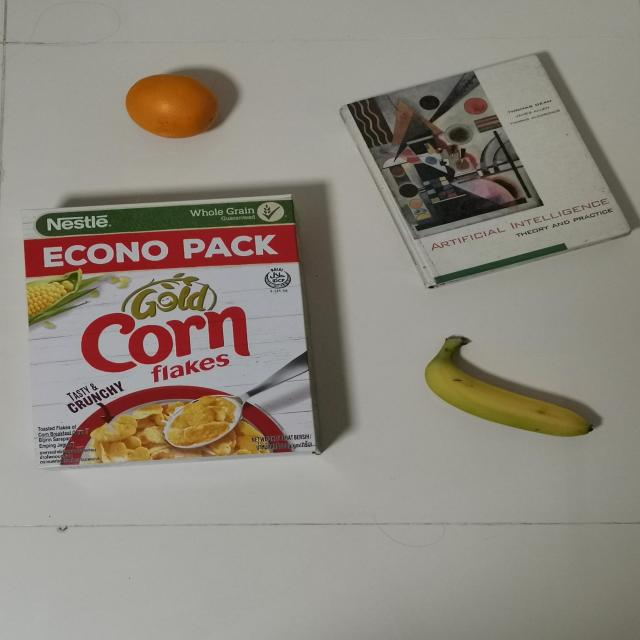Banana: (423, 330, 603, 442)
Book: (336, 48, 636, 298)
Cerealbox: (22, 193, 330, 474)
Orange: (125, 67, 222, 145)
